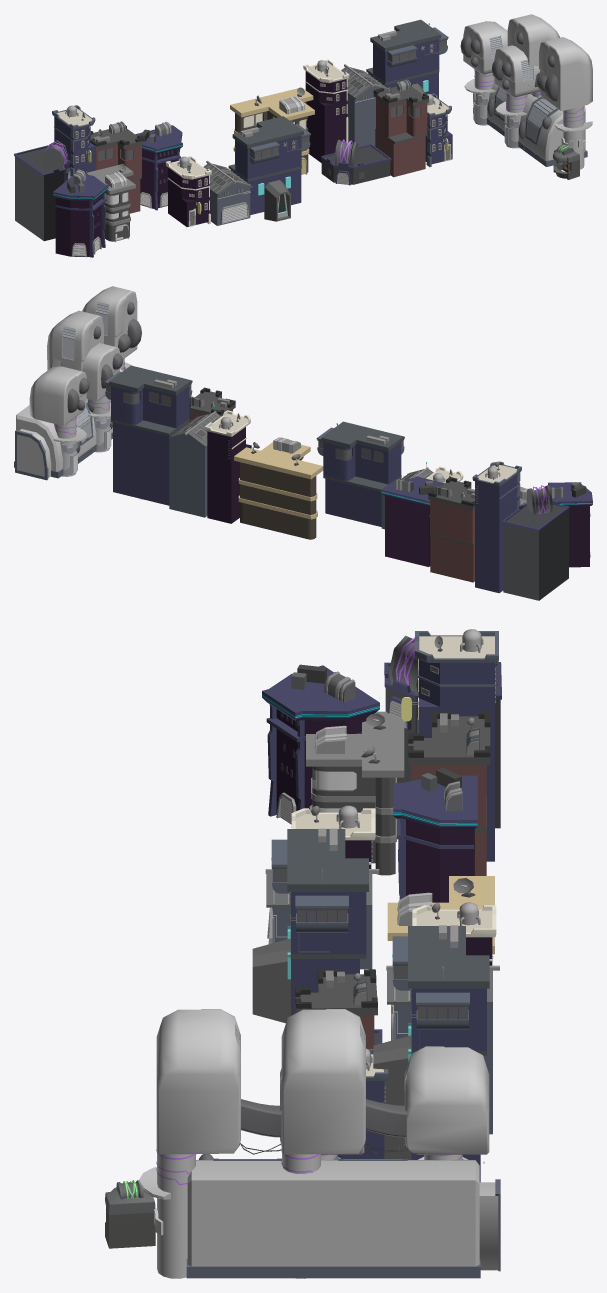
The model's file is Lower_Plaza_Back_Buildings.fbx.
3 renders of one model, top to bottom at view 1: azimuth 30°, elevation 25°; view 2: azimuth 150°, elevation 25°; view 3: azimuth 270°, elevation 25°, orthographic. The views are drawn at different scales.
Parts seen in each view (by area): view 1: Lower_Plaza_Back_Buildings; view 2: Lower_Plaza_Back_Buildings; view 3: Lower_Plaza_Back_Buildings.
Boxes of the visible parts, x1,y1,x2,y2 form: Lower_Plaza_Back_Buildings: (14,14,592,257); Lower_Plaza_Back_Buildings: (14,286,592,600); Lower_Plaza_Back_Buildings: (105,629,501,1278).
Size of the model in its own units: 346 by 83.93 by 119.
